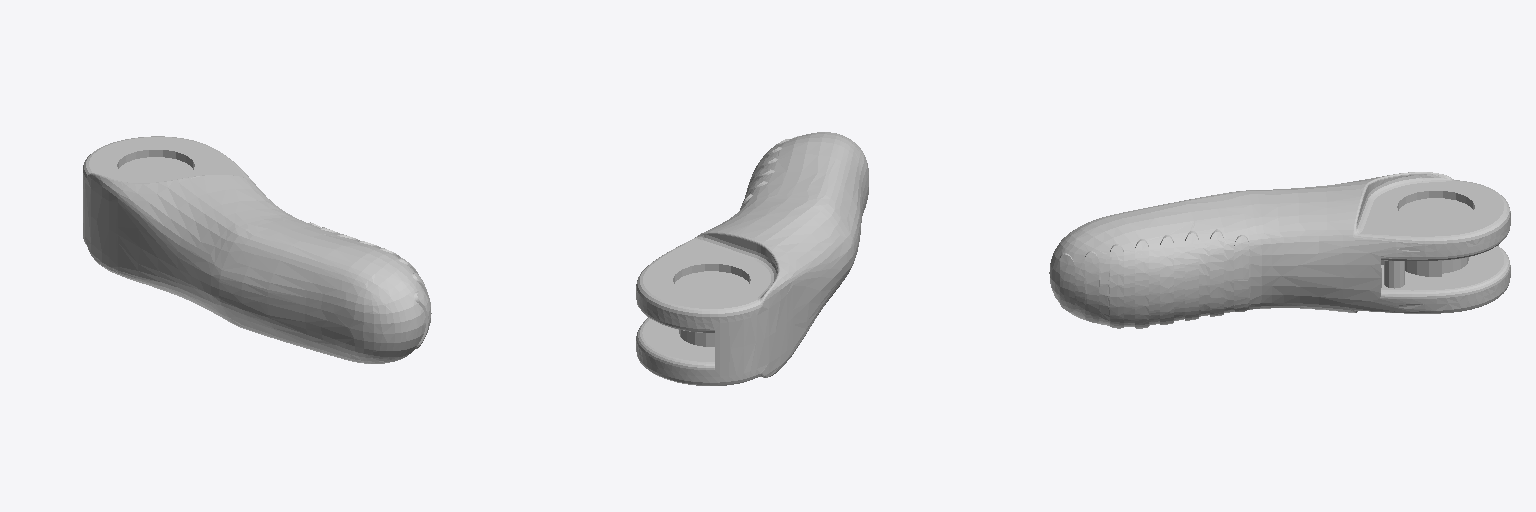
The model's file is index_finger_distal.obj.
The picture shows the model from 3 angles: view 1: azimuth 30°, elevation 25°; view 2: azimuth 150°, elevation 25°; view 3: azimuth 270°, elevation 25°; orthographic projection.
Parts seen in each view (by area): view 1: Index_Distal; view 2: Index_Distal; view 3: Index_Distal.
Part boxes in pixels (x1,y1,x2,y2): Index_Distal: (83, 136, 431, 363); Index_Distal: (636, 132, 868, 385); Index_Distal: (1049, 172, 1510, 328).
Bounding box in the file's own units: 0.0236 × 0.0146 × 0.0564.